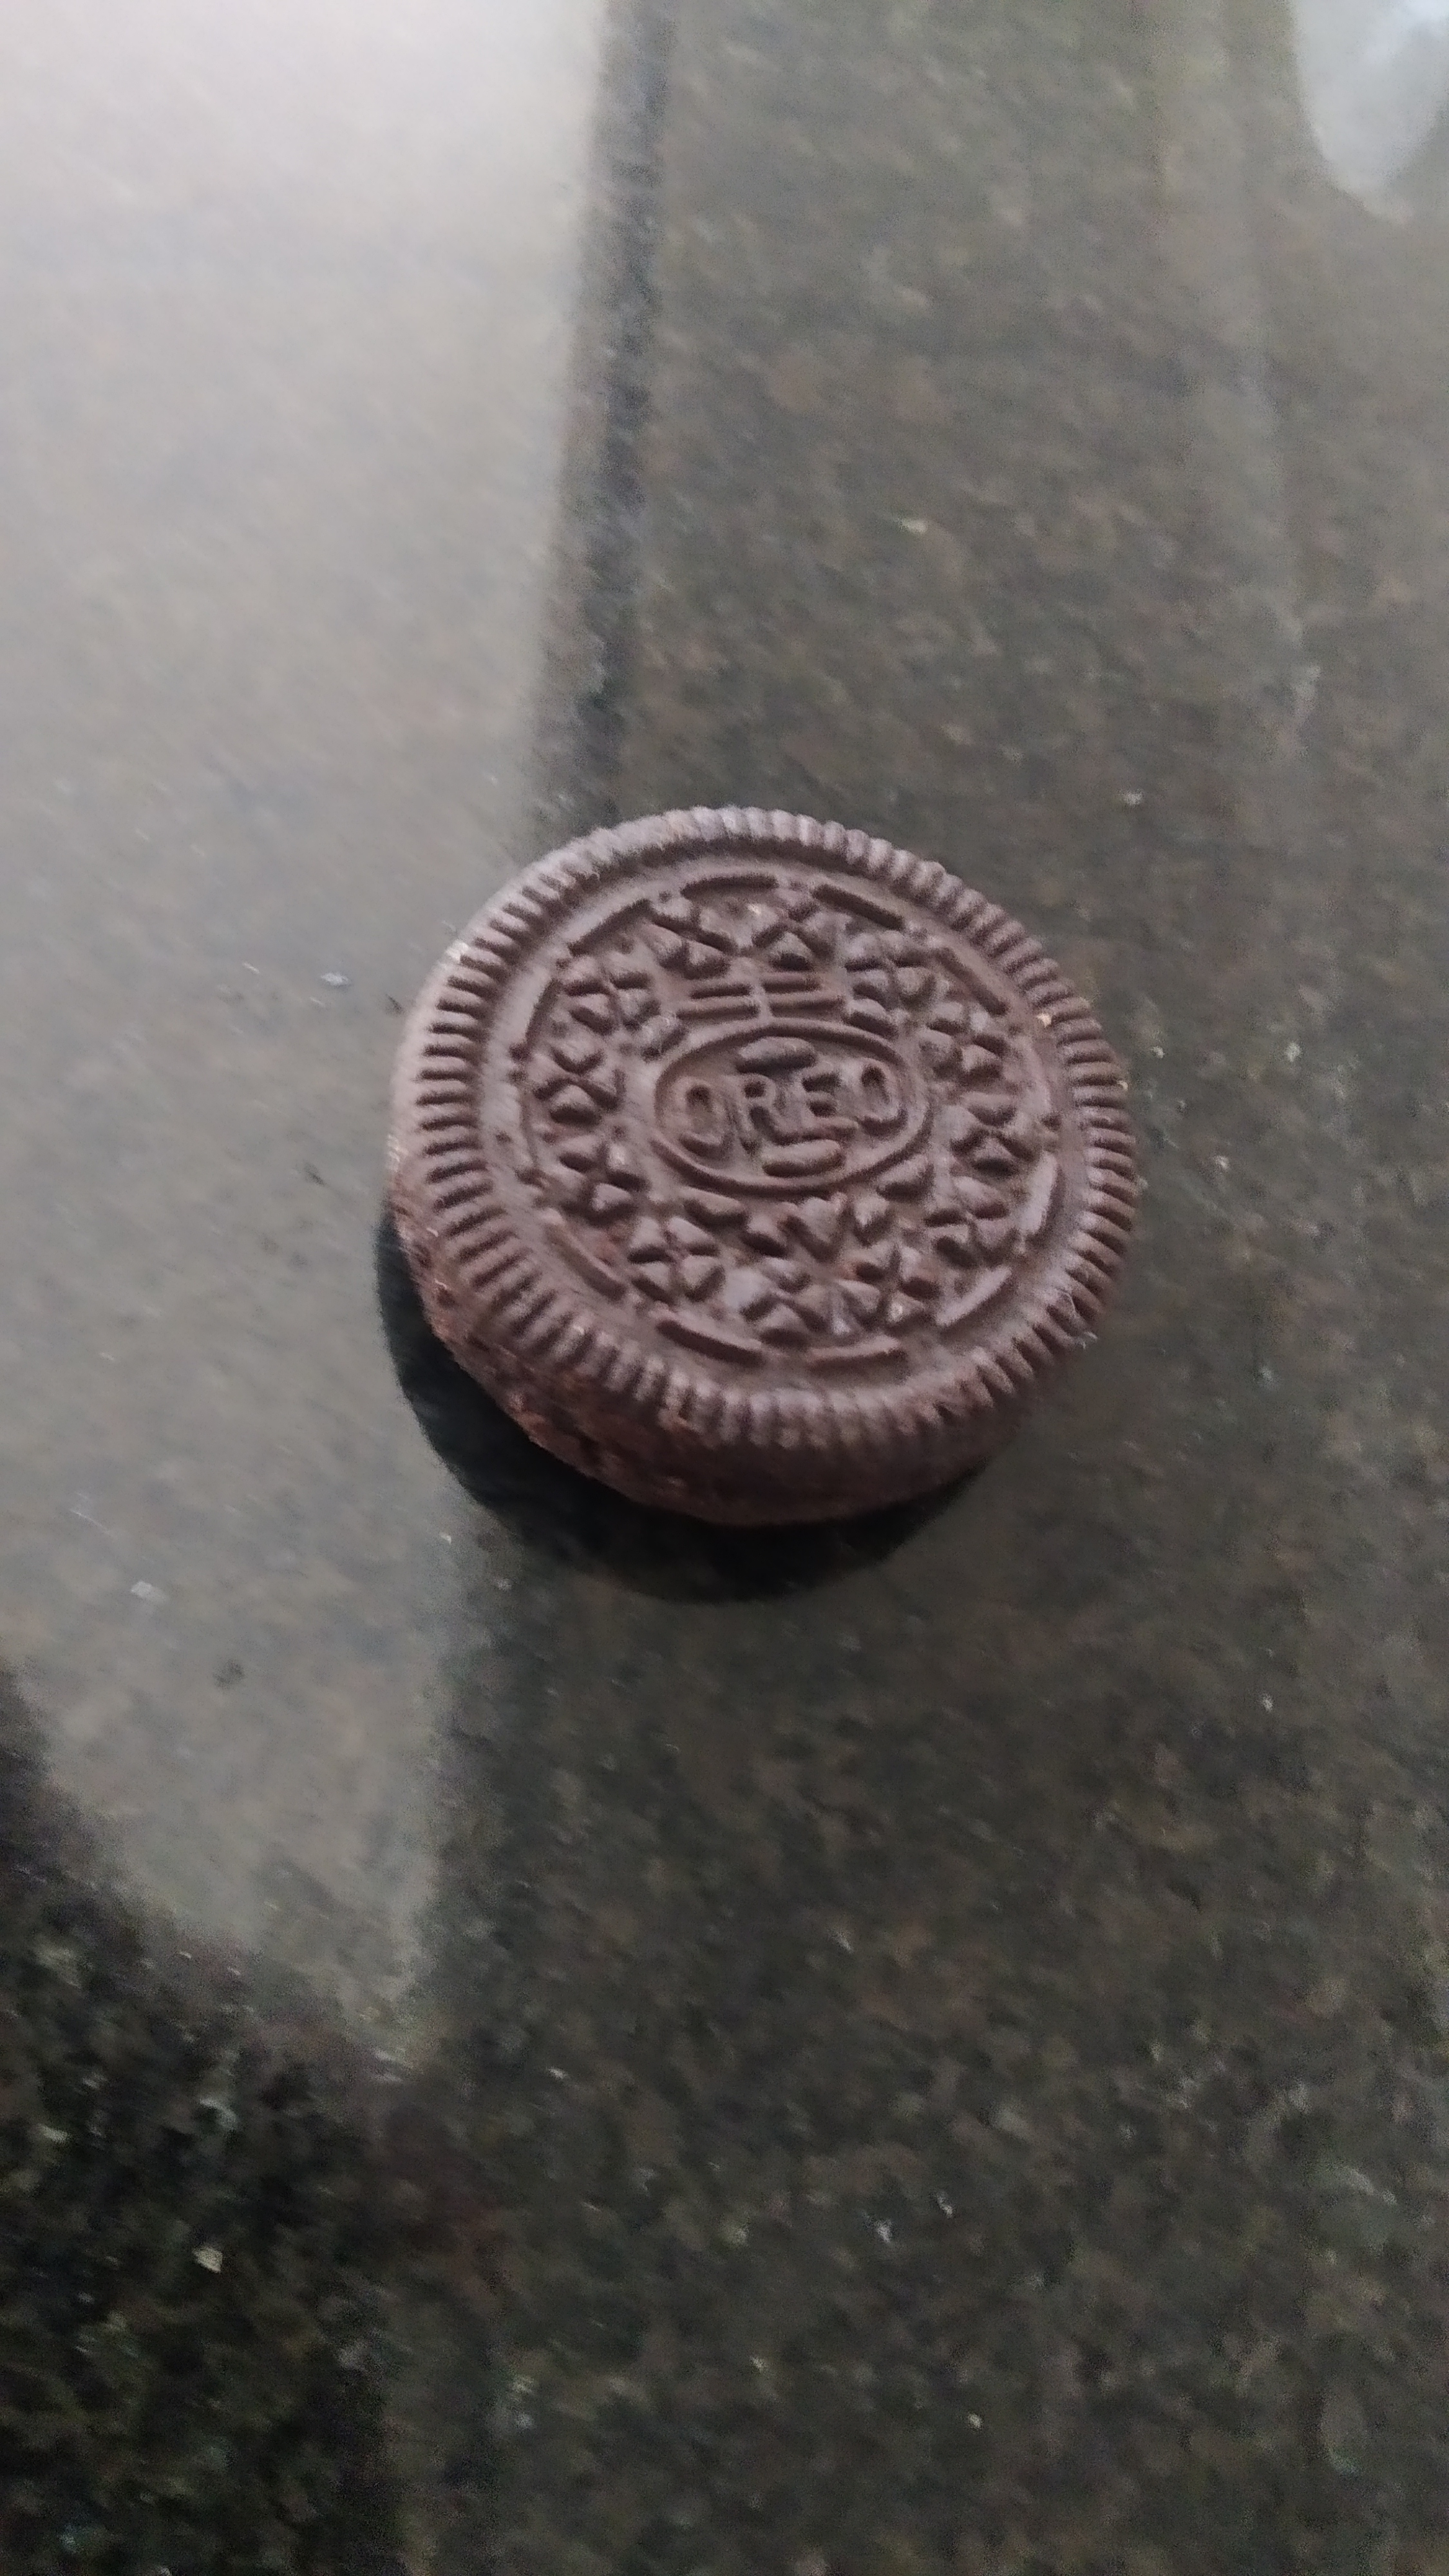oreo: (391, 805, 1138, 1525)
